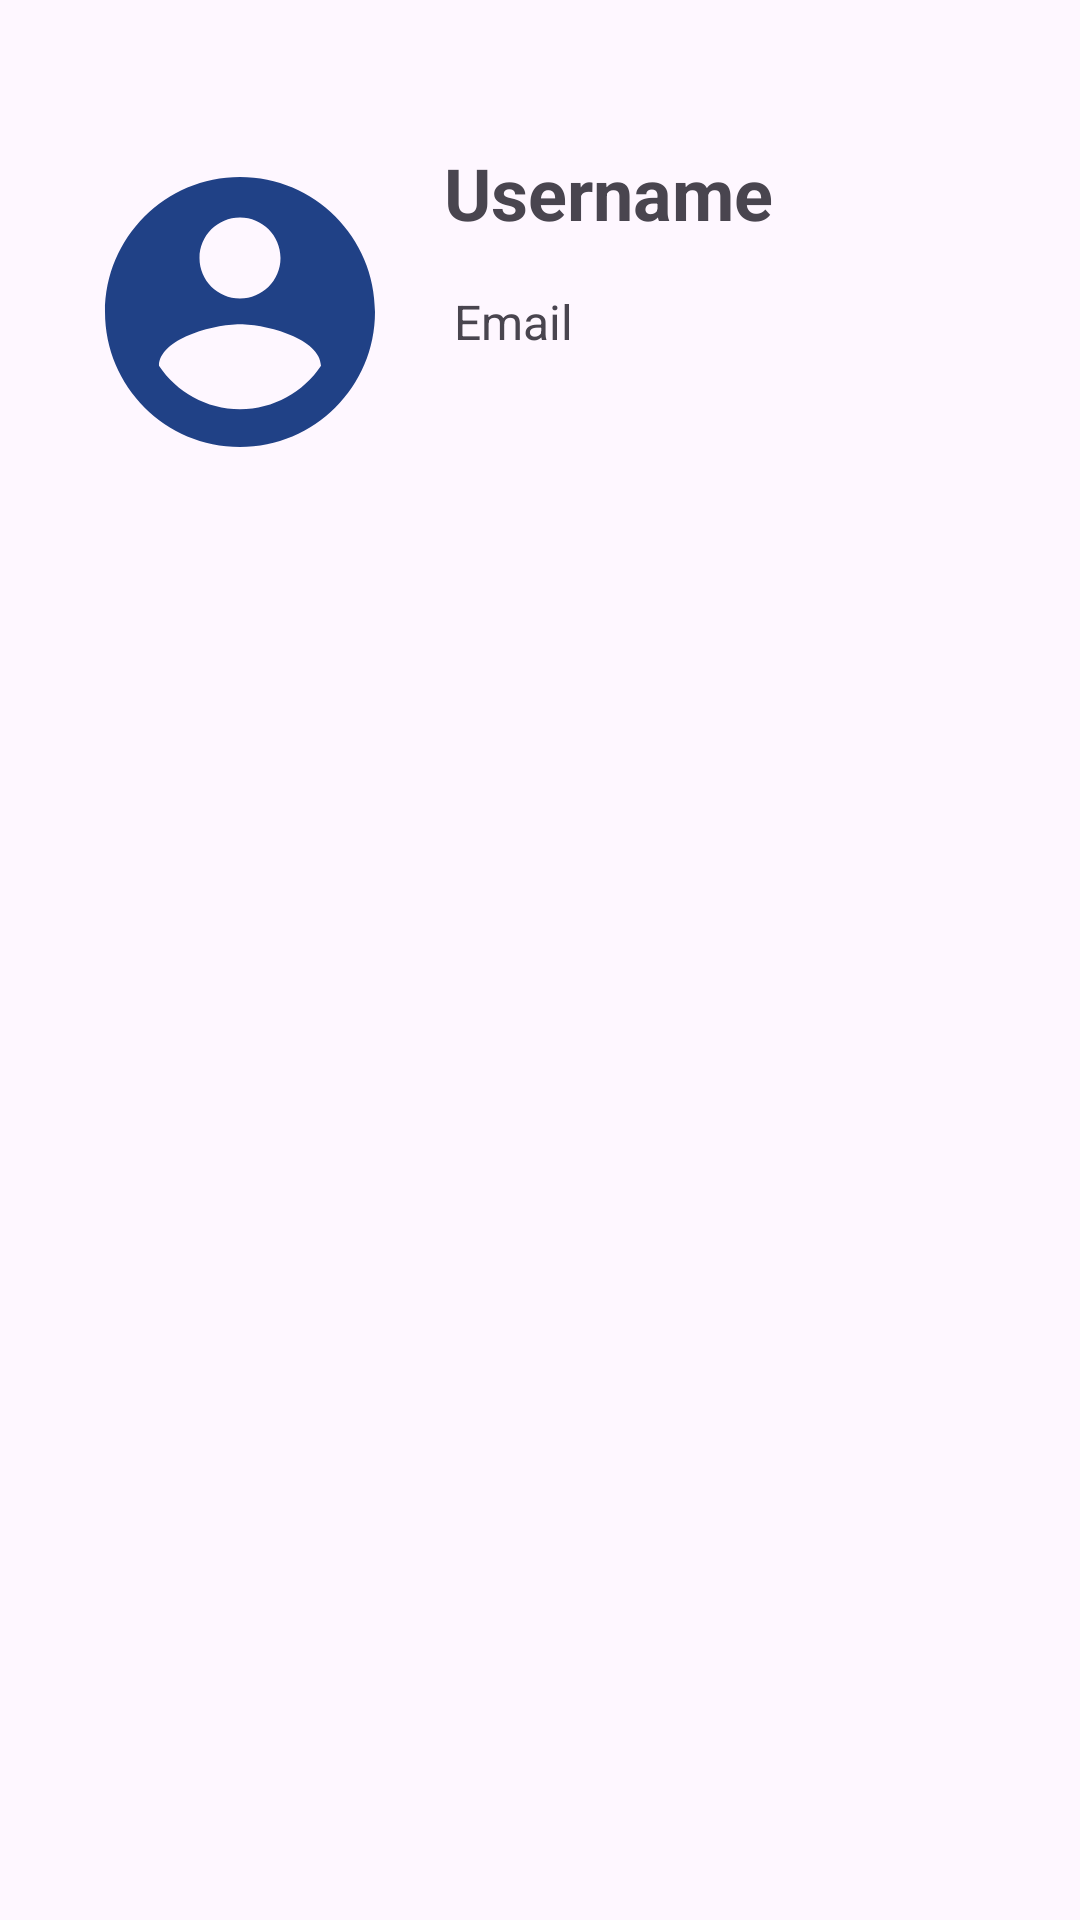

Icons on this 1080 × 1920 Android screen, each with the point to tap as [x,y]:
Account Profile: [240,312]
